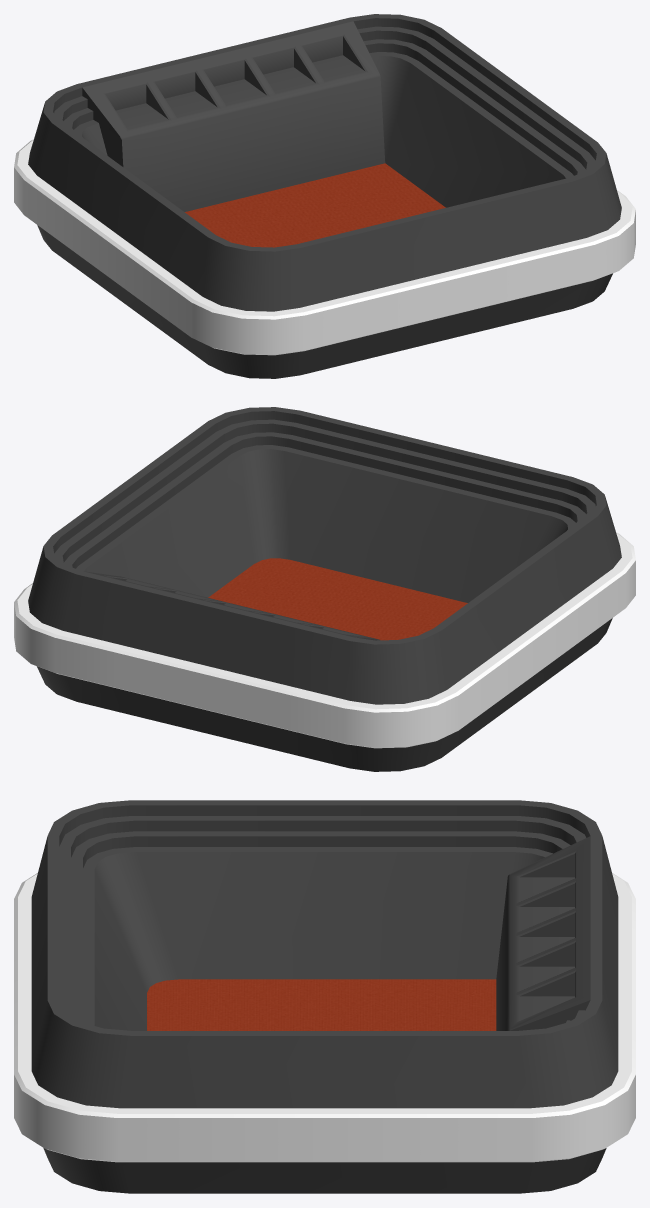
File: DiceBox2.fbx
The picture shows the model from 3 angles, top to bottom: view 1: azimuth 30°, elevation 25°; view 2: azimuth 150°, elevation 25°; view 3: azimuth 270°, elevation 25°; orthographic projection. The views are drawn at different scales.
Visible parts, largest first — view 1: 큐브; view 2: 큐브; view 3: 큐브.
Boxes of the visible parts, <box> form: 큐브: <box>14,14,635,378</box>; 큐브: <box>14,407,635,771</box>; 큐브: <box>14,800,635,1193</box>.
Size of what is drawn, in the model's own units: 530 by 148 by 530.
